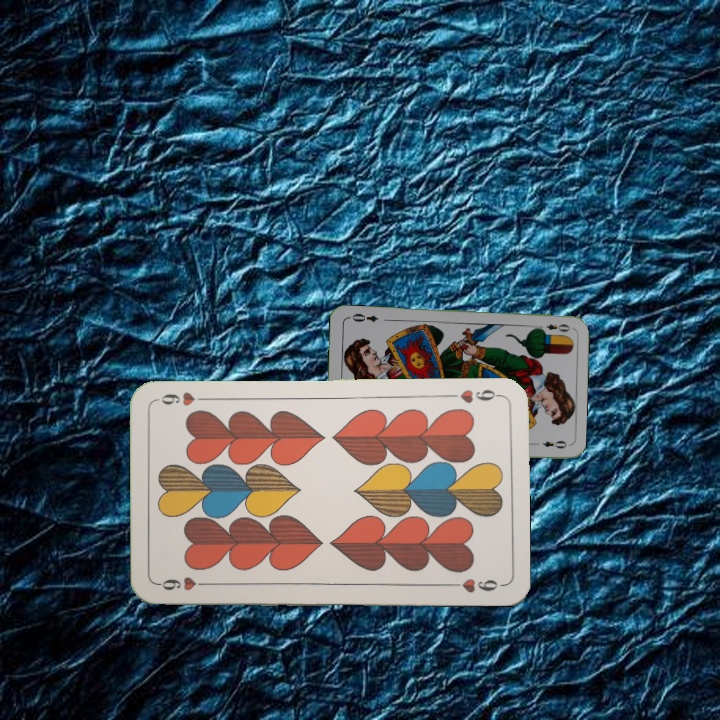EO: (533, 320, 573, 334)
H9: (155, 572, 214, 593), (444, 385, 503, 406)
